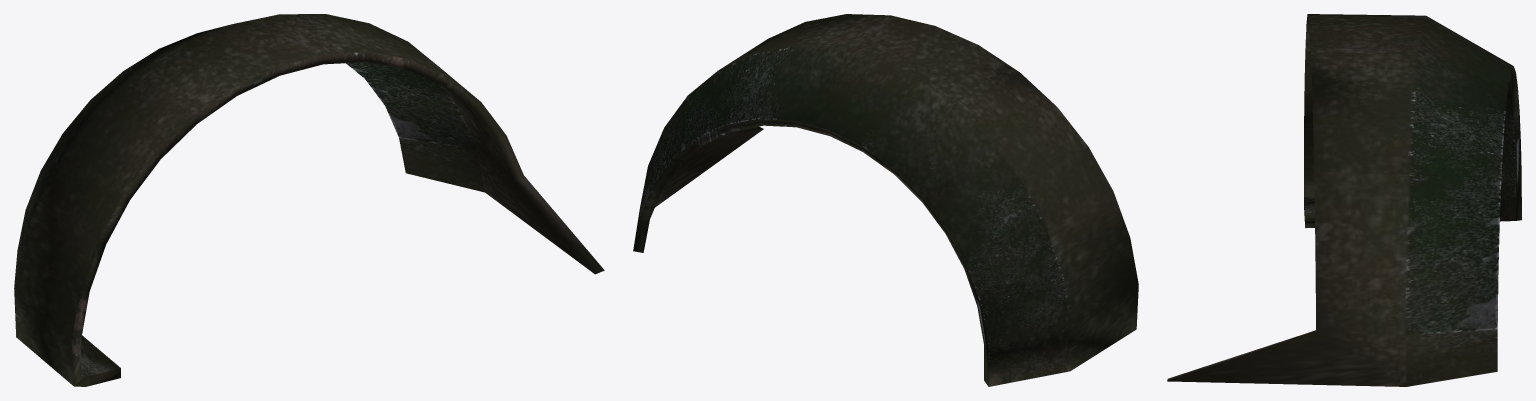
File: Pokr.fbx
The picture shows the model from 3 angles, left to right: view 1: azimuth 30°, elevation 25°; view 2: azimuth 150°, elevation 25°; view 3: azimuth 270°, elevation 25°; orthographic projection. The views are drawn at different scales.
Parts seen in each view (by area): view 1: defaultMaterial.035; view 2: defaultMaterial.035; view 3: defaultMaterial.035.
Boxes of the visible parts, <box> form: defaultMaterial.035: <box>14,14,604,386</box>; defaultMaterial.035: <box>633,14,1138,386</box>; defaultMaterial.035: <box>1167,14,1521,386</box>.
Size of the model in its own units: 121 by 67.09 by 76.82.
Materials: 1 (1 with a texture image).
